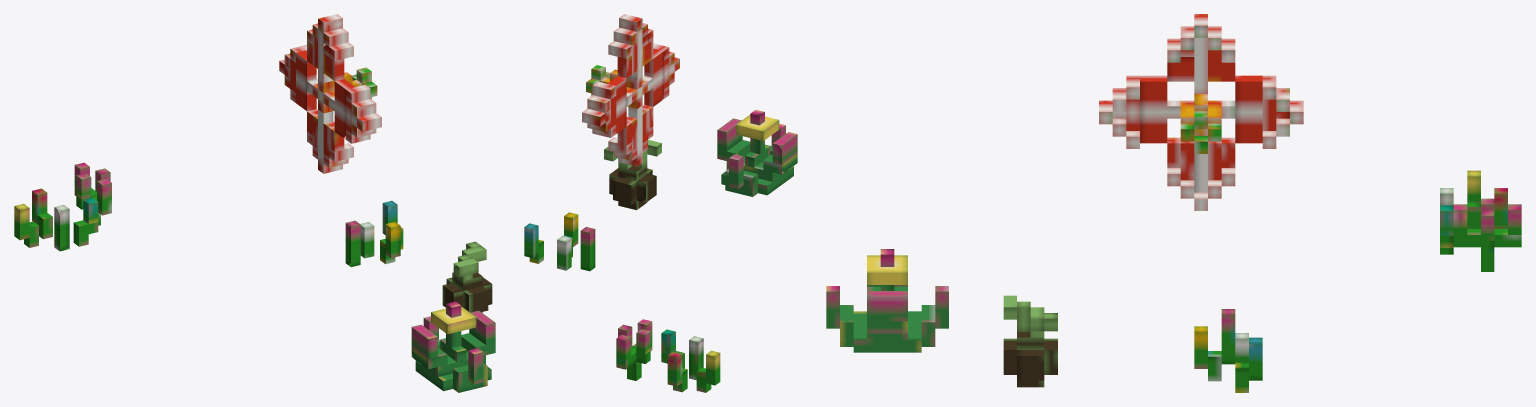
The model's file is FlorRoja.obj.
The picture shows the model from 3 angles, left to right: view 1: azimuth 30°, elevation 25°; view 2: azimuth 150°, elevation 25°; view 3: azimuth 270°, elevation 25°; orthographic projection. The views are drawn at different scales.
Parts seen in each view (by area): view 1: Element #82, Element #39, Element #81, Element #46, Element #32, Element #22, Element #34, Element #37, Element #5, Element #1, Element #26, Element #30 (+9 smaller); view 2: Element #81, Element #39, Element #32, Element #46, Element #1, Element #82, Element #34, Element #6, Element #22, Element #38, Element #24, Element #35 (+25 smaller); view 3: Element #82, Element #81, Element #35, Element #34, Element #39, Element #1, Element #32, Element #89, Element #14, Element #90, Element #38, Element #28 (+4 smaller).
Part boxes in pixels (x1,y1,x2,y2): Element #82: (296,50,316,111); Element #39: (431,306,476,334); Element #81: (334,79,354,139); Element #46: (411,324,437,359); Element #32: (345,220,360,267); Element #22: (54,205,69,251); Element #34: (469,310,495,344); Element #37: (453,363,487,392); Element #5: (463,286,488,312); Element #1: (442,277,492,307); Element #26: (14,203,29,240); Element #30: (385,221,400,258); Element #81: (644,49,663,106); Element #39: (736,114,779,140); Element #32: (580,227,595,271); Element #46: (772,132,797,164); Element #1: (609,168,656,202); Element #82: (607,76,626,133); Element #34: (717,118,742,151); Element #6: (613,177,636,204); Element #22: (689,336,703,380); Element #38: (725,168,757,196); Element #24: (667,351,682,386); Element #35: (721,166,793,195); Element #82: (1235,75,1262,143); Element #81: (1140,75,1167,143); Element #35: (853,311,921,352); Element #34: (867,291,907,321); Element #39: (867,255,907,284); Element #1: (1017,350,1044,380); Element #32: (1221,309,1235,364); Element #89: (1194,38,1207,93); Element #14: (1453,204,1467,247); Element #90: (1167,57,1194,81); Element #38: (921,305,935,346); Element #28: (1249,337,1262,380).
Bounding box in the file's own units: 4.8 × 4.16 × 8.16.
Materials: 1 (1 with a texture image).
